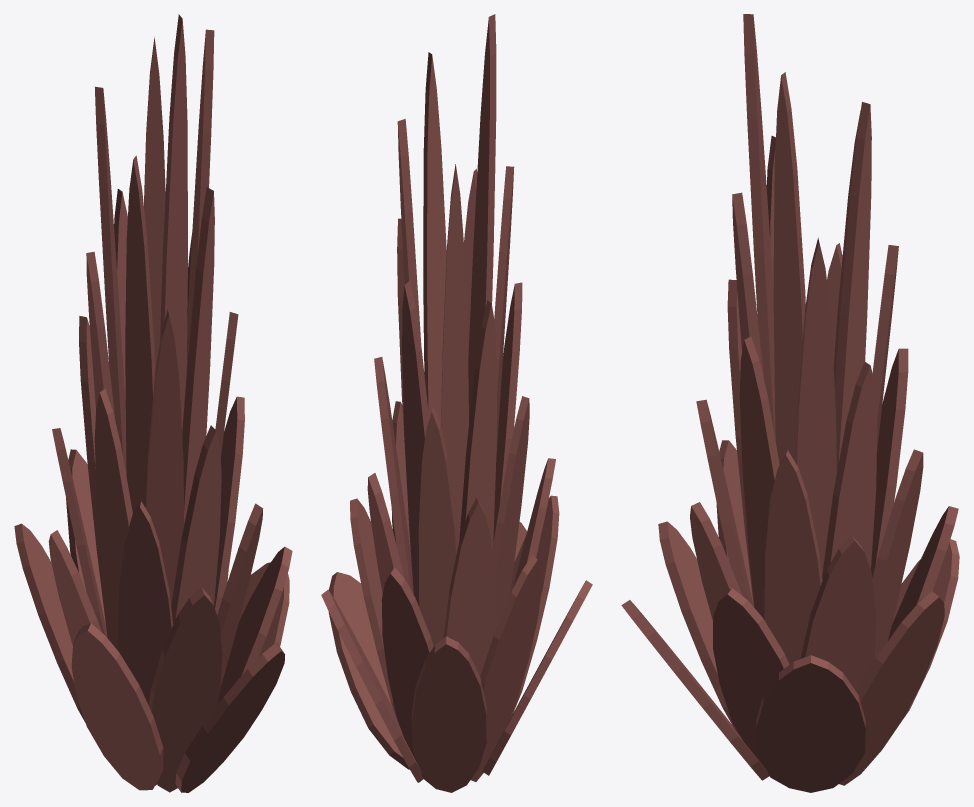
Rendered from bush-01.fbx.
3 renders of one model, left to right at view 1: azimuth 30°, elevation 25°; view 2: azimuth 150°, elevation 25°; view 3: azimuth 270°, elevation 25°, orthographic. The views are drawn at different scales.
Parts seen in each view (by area): view 1: bush-01; view 2: bush-01; view 3: bush-01.
Part boxes in pixels (<box>): bush-01: <box>14,14,292,792</box>; bush-01: <box>321,14,592,792</box>; bush-01: <box>621,14,959,792</box>.
Size of the model in its own units: 36.63 by 116 by 46.81.
